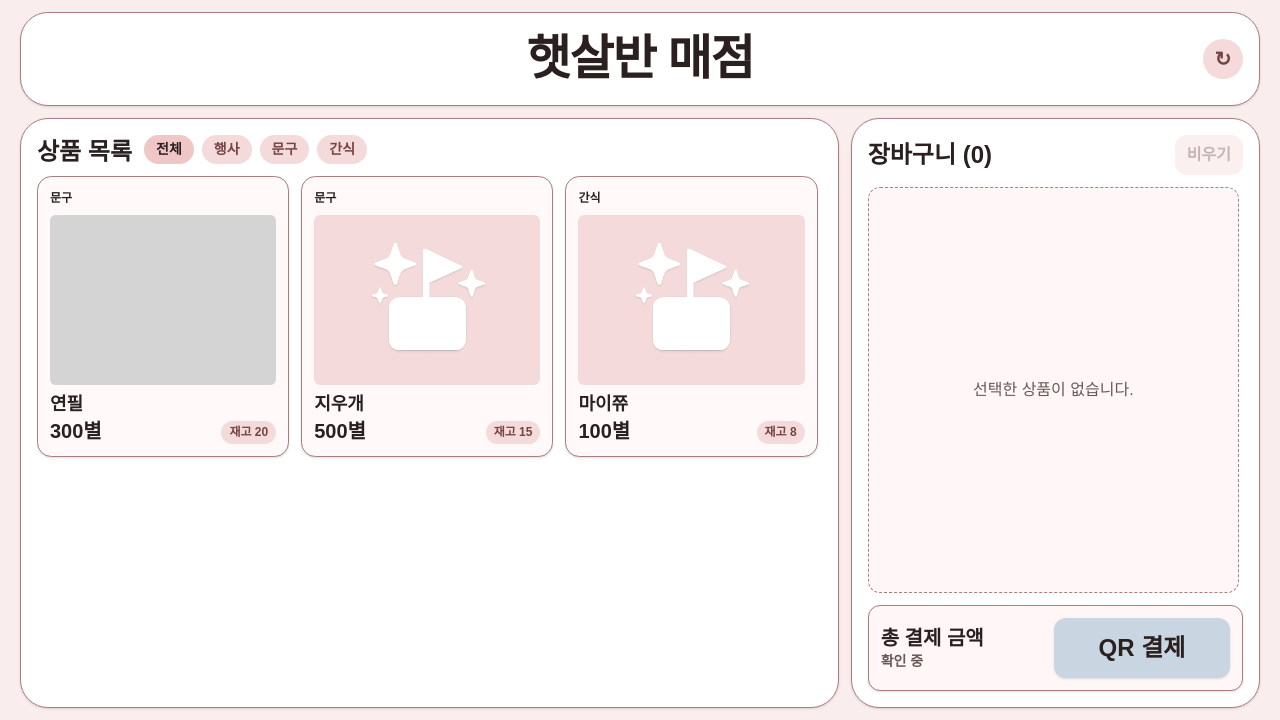
Scenario: KioskApp › builds category tabs beside the product heading and filters the product grid
The width and height of the screenshot is (1280, 720).
Check: the button "전체" is shown, box [144, 135, 194, 164]
Check: the button "행사" is shown, box [202, 135, 252, 164]
Click the button "간식" at (342, 150), box [317, 135, 367, 164]
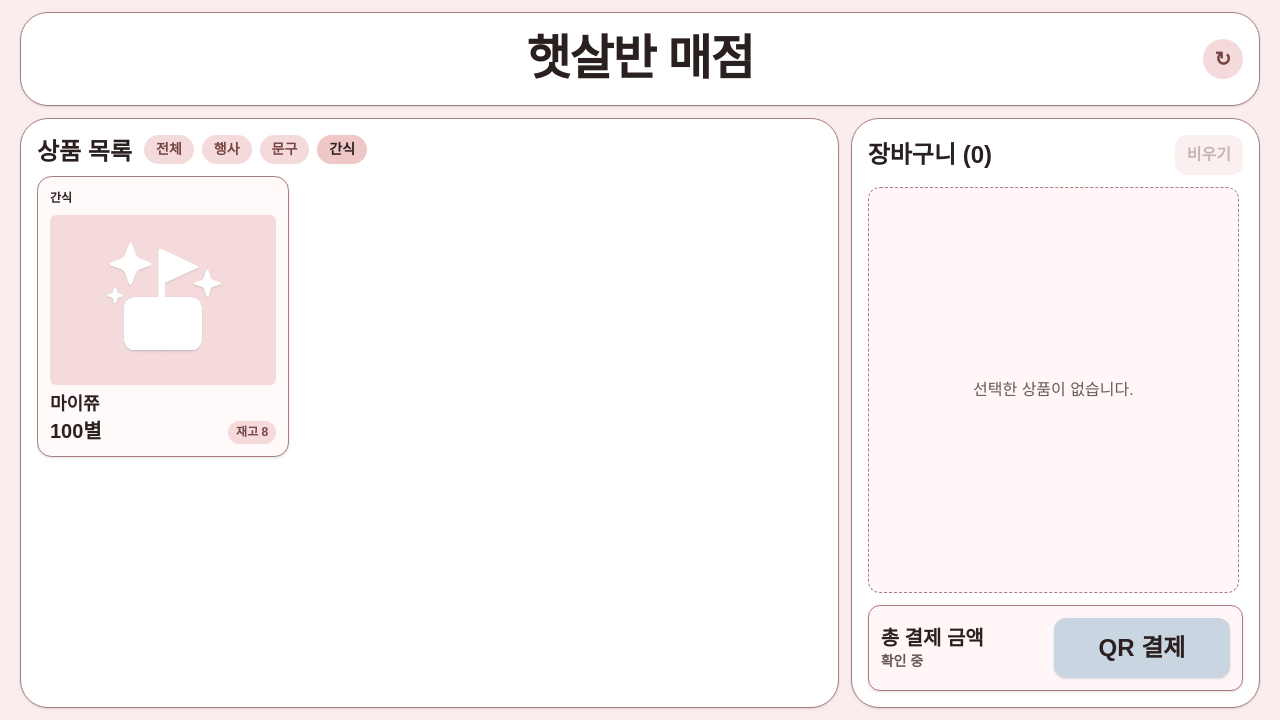
Check: the text "마이쮸" is shown, box [50, 394, 100, 414]
Check: the button "연필" is gone
Click the button "전체" at (169, 150), box [144, 135, 194, 164]
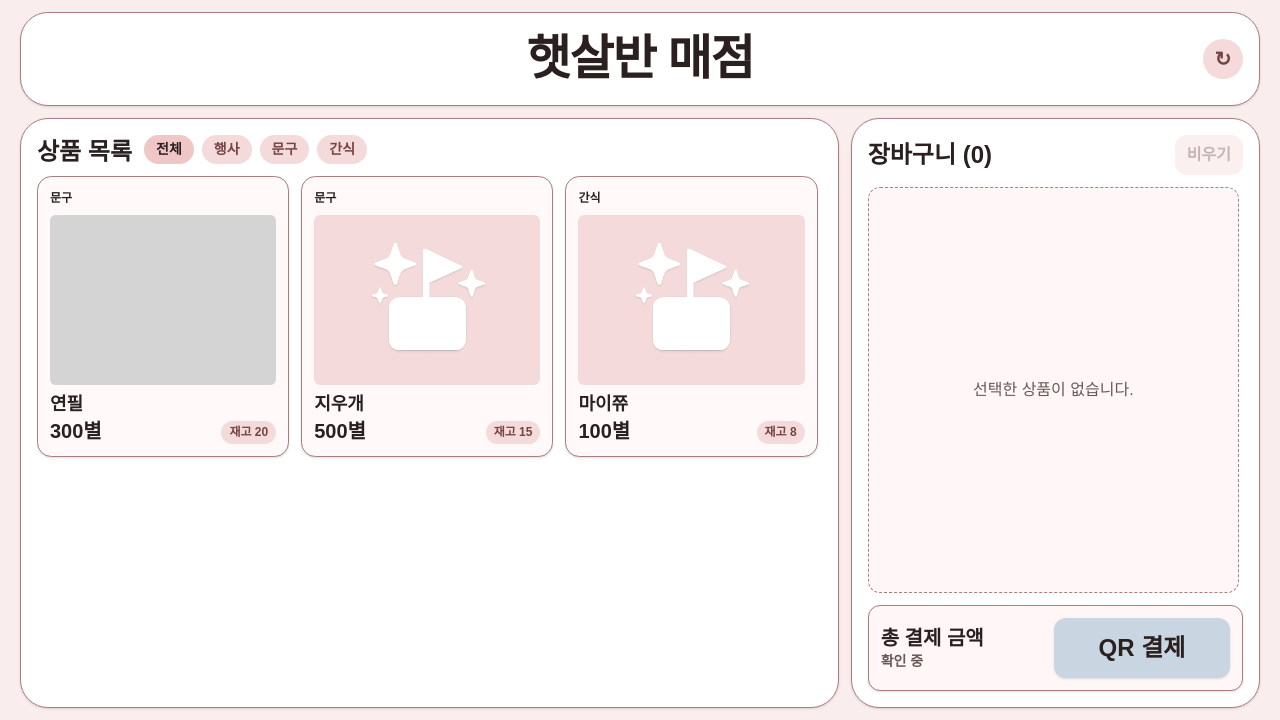
Check: the text "연필" is shown, box [50, 394, 83, 414]
